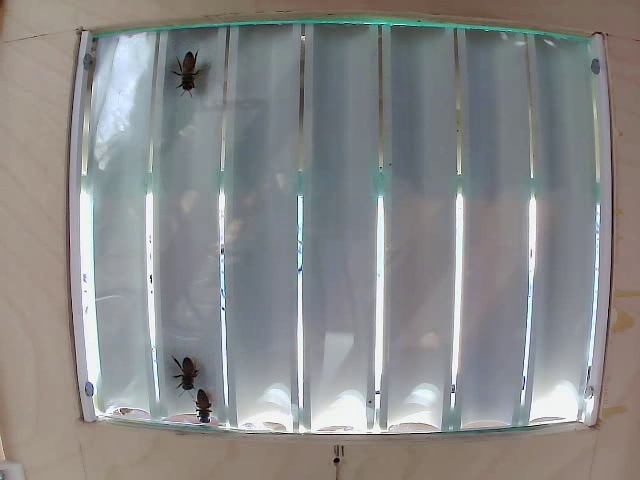bee: (172, 54, 210, 106), (157, 359, 193, 386)
